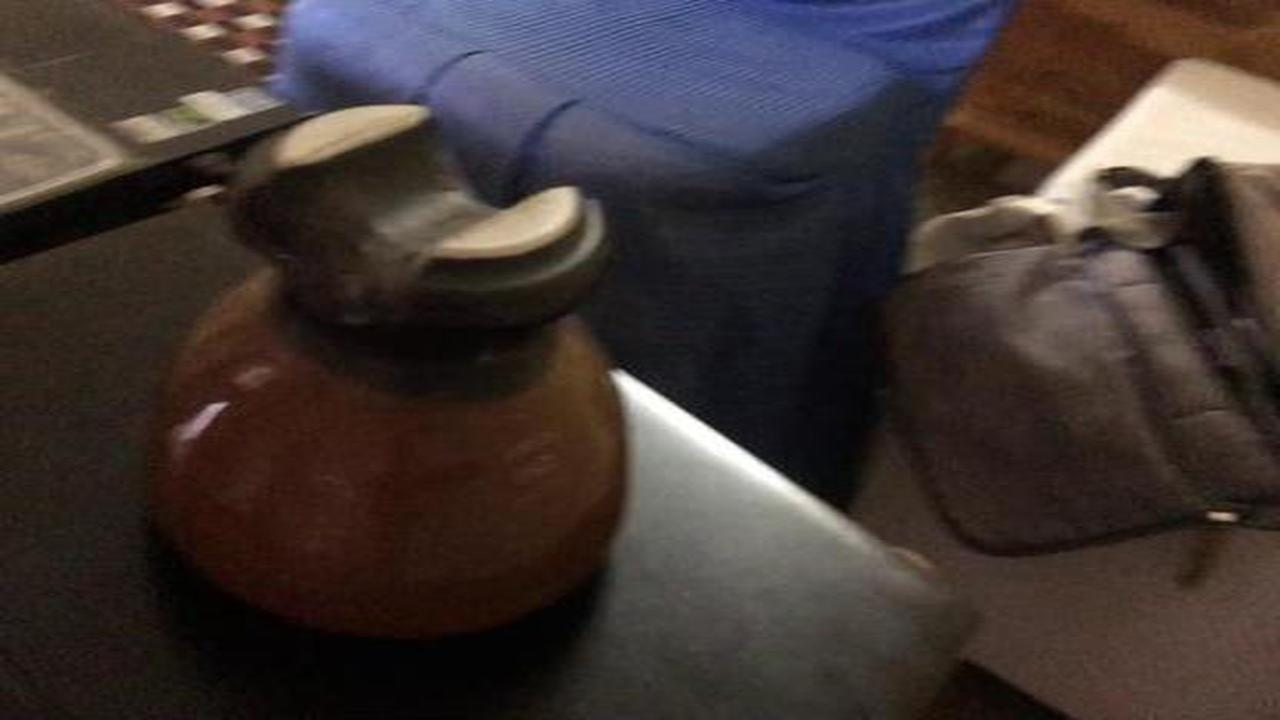insulator_pin: (133, 96, 650, 667)
